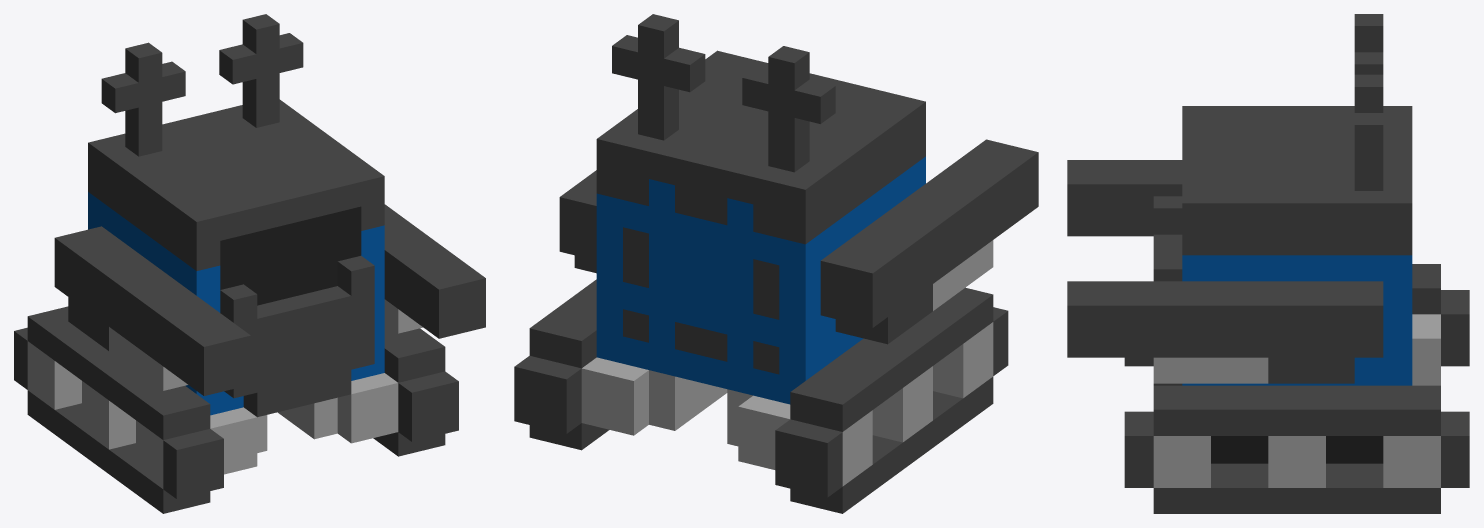
File: Blue-9.obj
3 views of the same model, side by side, from view 1: azimuth 30°, elevation 25°; view 2: azimuth 150°, elevation 25°; view 3: azimuth 270°, elevation 25° (orthographic). The views are drawn at different scales.
Parts seen in each view (by area): view 1: Blue-9; view 2: Blue-9; view 3: Blue-9.
Boxes of the visible parts, left/top/right/bottom form: Blue-9: left=14, top=14, right=485, bottom=513; Blue-9: left=514, top=14, right=1038, bottom=513; Blue-9: left=1067, top=14, right=1469, bottom=513.
Bounding box in the file's own units: 12 × 15 × 14.
Materials: 1 (1 with a texture image).
